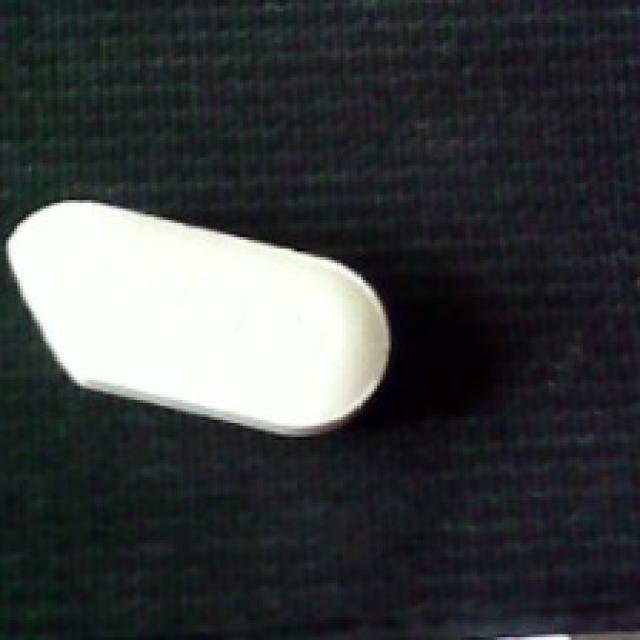defected: (3, 200, 394, 440)
